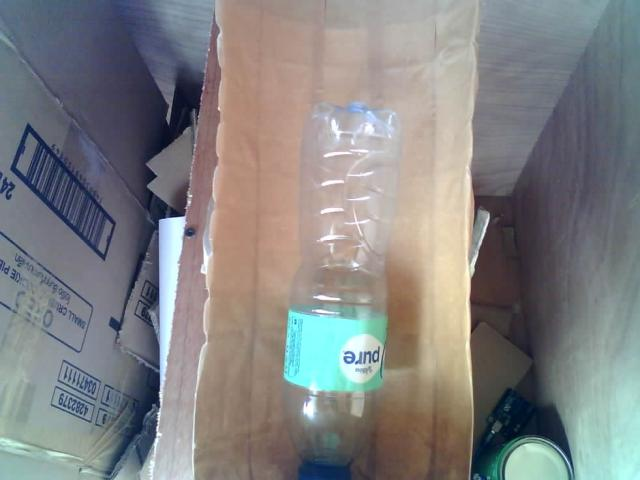small_bottle: (271, 91, 411, 480)
